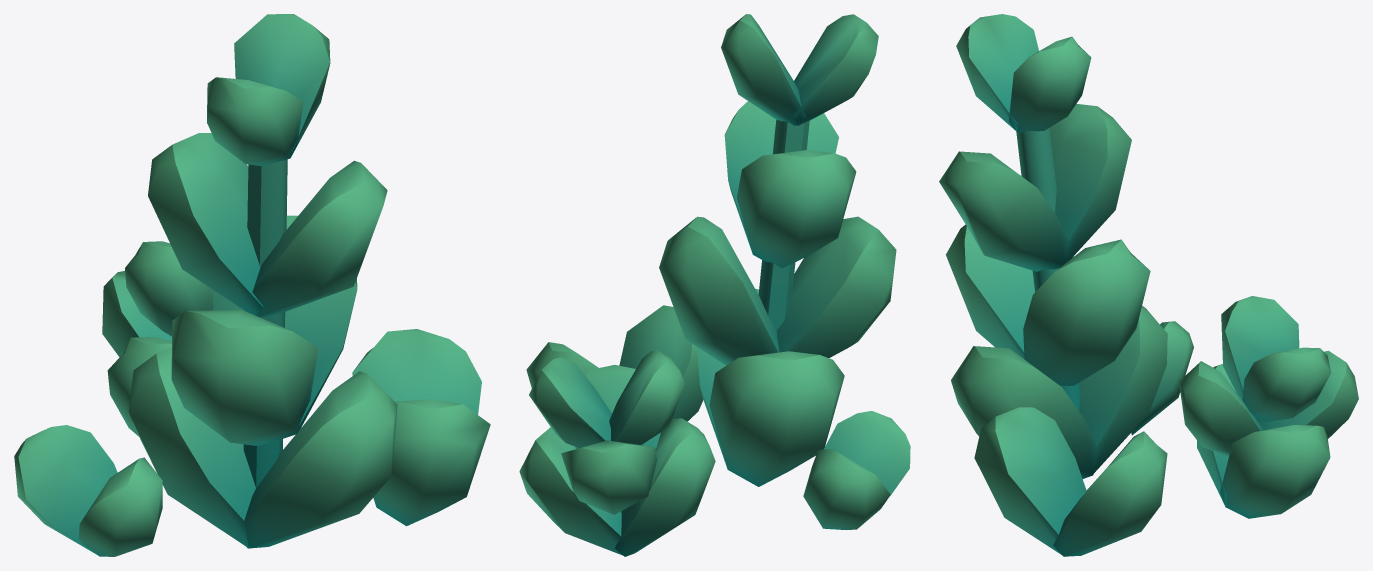
The picture shows the model from 3 angles, left to right: view 1: azimuth 30°, elevation 25°; view 2: azimuth 150°, elevation 25°; view 3: azimuth 270°, elevation 25°; orthographic projection. The views are drawn at different scales.
Visible parts, largest first — view 1: LOD 2_13142735058292916171_864aa3741cb91814880953315ea2c192; view 2: LOD 2_13142735058292916171_864aa3741cb91814880953315ea2c192; view 3: LOD 2_13142735058292916171_864aa3741cb91814880953315ea2c192.
Part boxes in pixels (x1,y1,x2,y2): LOD 2_13142735058292916171_864aa3741cb91814880953315ea2c192: (14,14,490,556); LOD 2_13142735058292916171_864aa3741cb91814880953315ea2c192: (519,14,910,556); LOD 2_13142735058292916171_864aa3741cb91814880953315ea2c192: (939,14,1358,556).
Bounding box in the file's own units: 0.6529 × 0.7995 × 0.6564.
